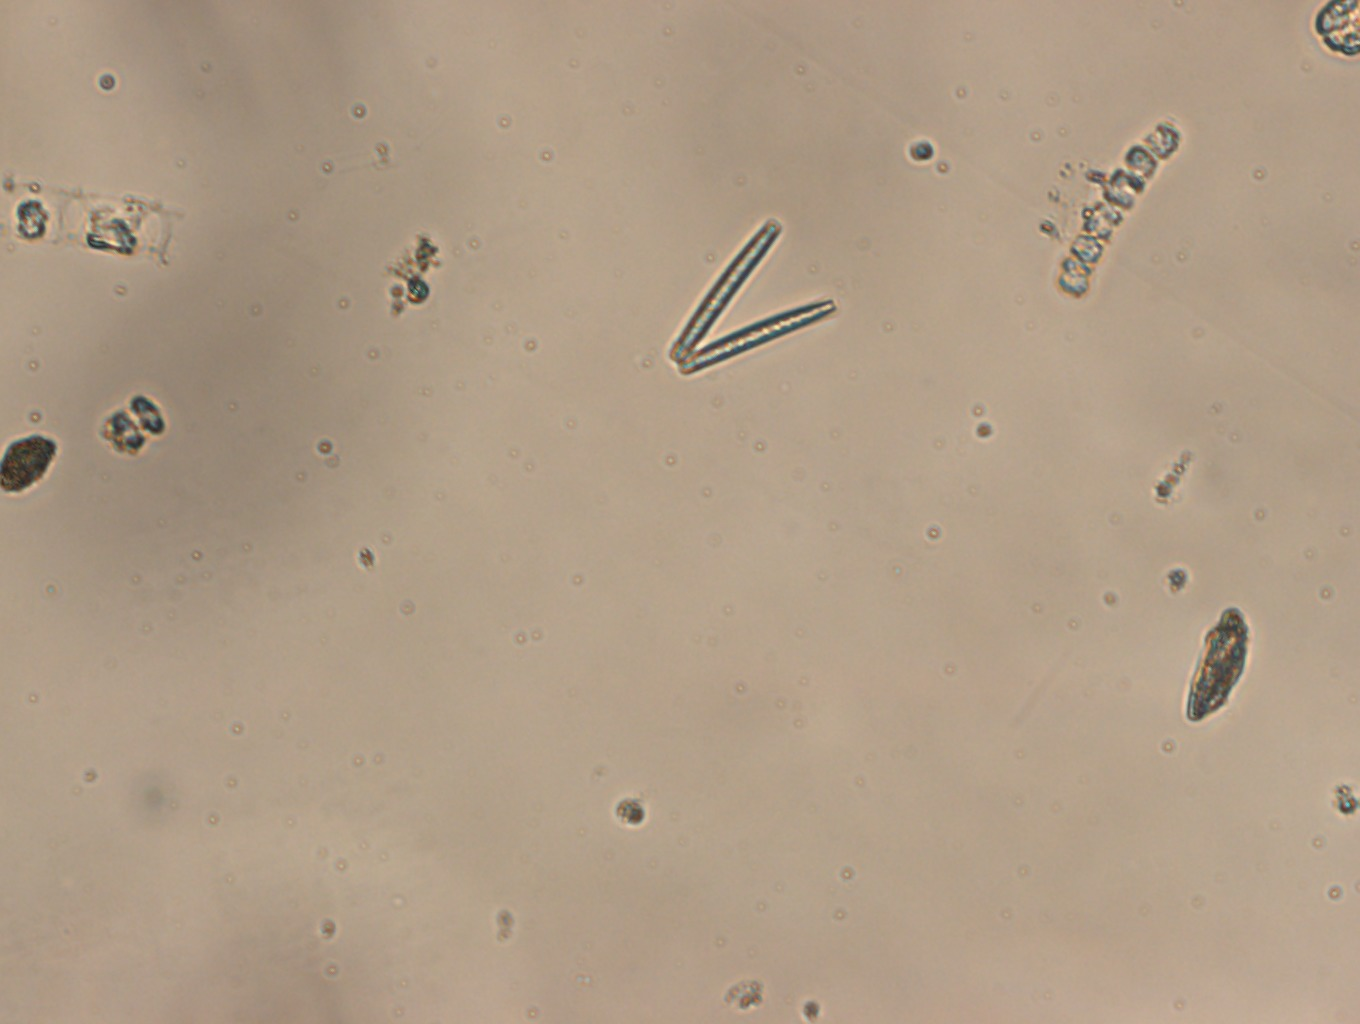skeletonema: (1058, 119, 1183, 297)
thalassionema nitzschioides: (668, 215, 838, 376)
